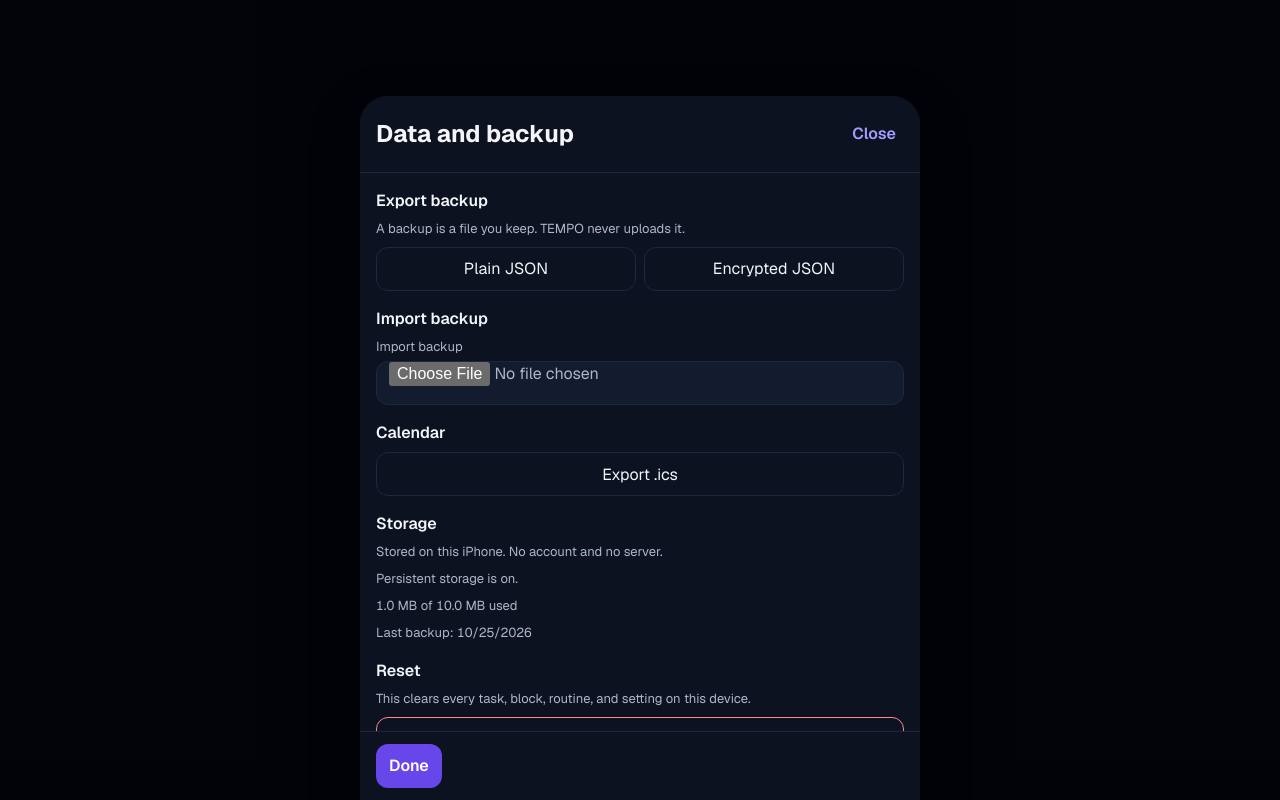
Test: shows storage status and exports the calendar file
Expected: the text "1.0 MB of 10.0 MB used" is shown, [376,597,518,614]
Expected: the text "Persistent storage is on." is shown, [376,570,518,587]
Click the button "Export .ics": click(640, 474) [376,452,904,496]
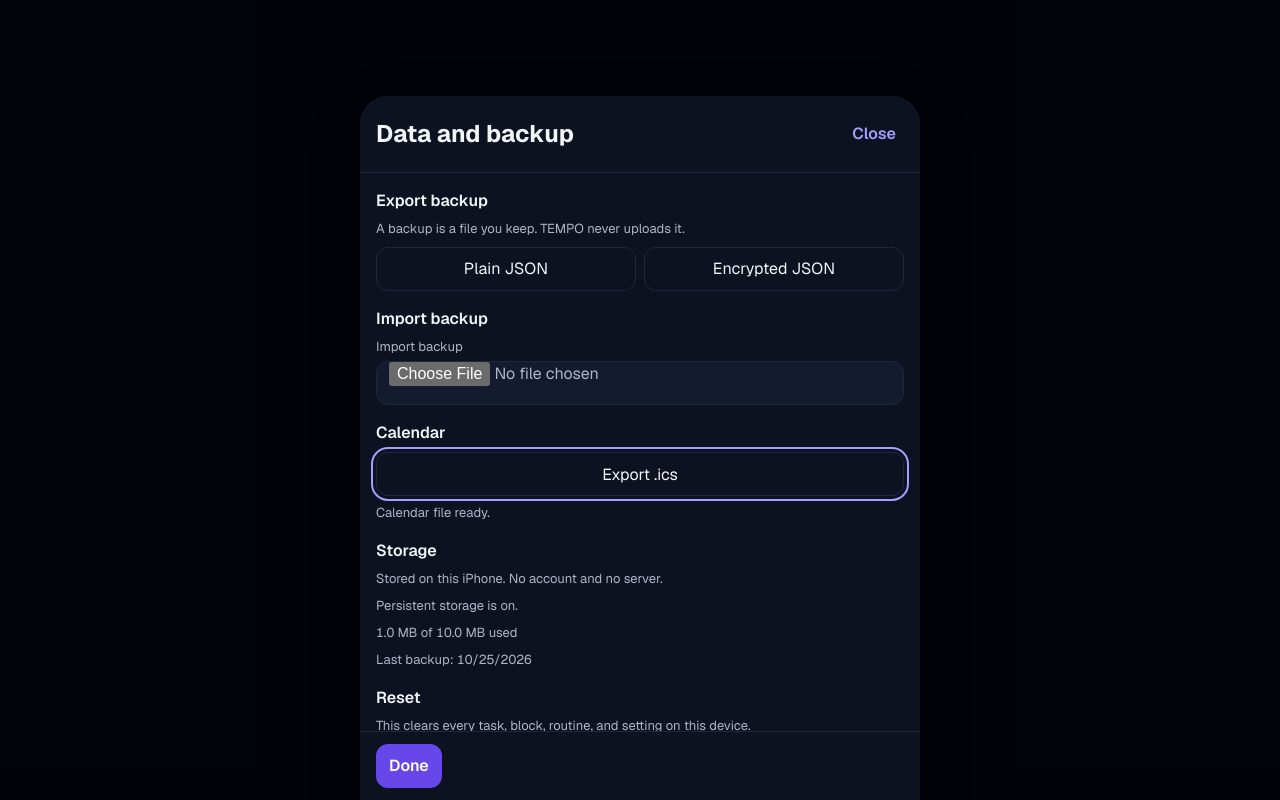
Result: the text "Calendar file ready." is shown at [376,504,490,521]
